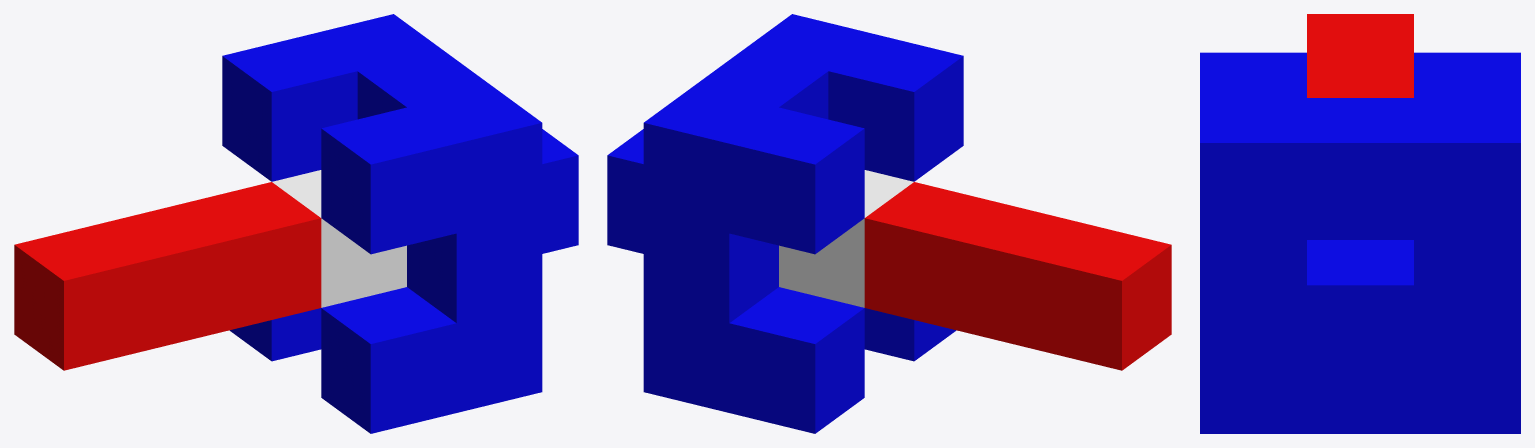
Rendered from GalagaMissile.glb.
3 renders of one model, left to right at view 1: azimuth 30°, elevation 25°; view 2: azimuth 150°, elevation 25°; view 3: azimuth 270°, elevation 25°, orthographic. The views are drawn at different scales.
Visible parts, largest first — view 1: Cube.001; view 2: Cube.001; view 3: Cube.001.
Part boxes in pixels (box(x1,y1,x2,y2)): Cube.001: box(14, 14, 578, 433); Cube.001: box(607, 14, 1171, 433); Cube.001: box(1200, 14, 1520, 433).
Size of the model in its own units: 12 by 6 by 6.
